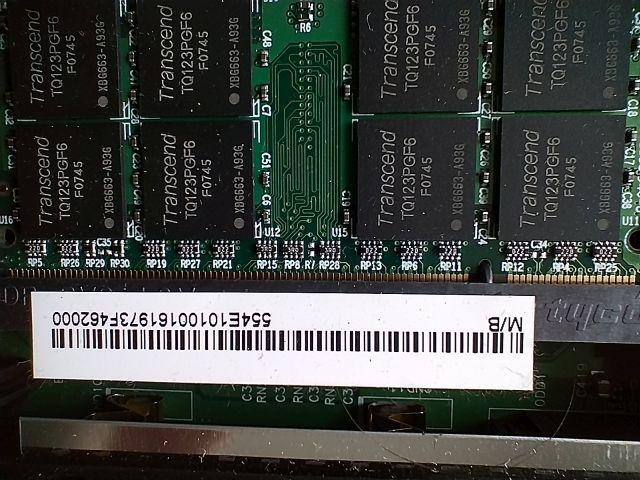resistor: (554, 240, 595, 274), (20, 235, 56, 261), (55, 239, 75, 266), (147, 246, 172, 267)
